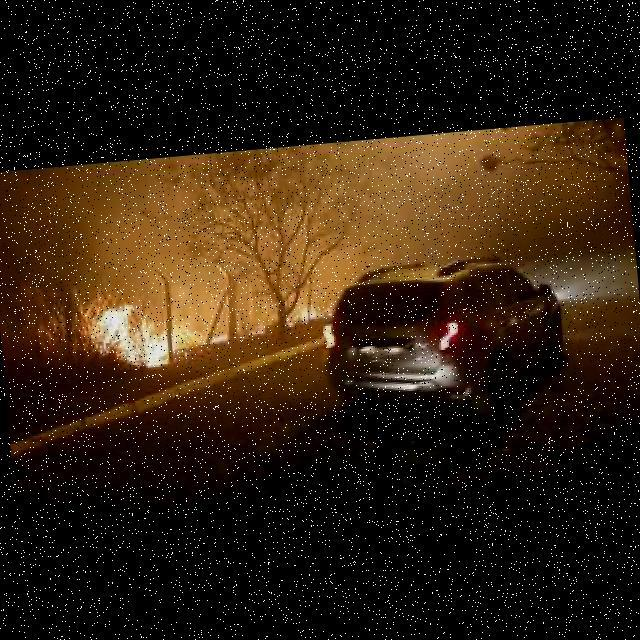Fire: (88, 296, 187, 370), (303, 302, 326, 322), (207, 334, 228, 346)
